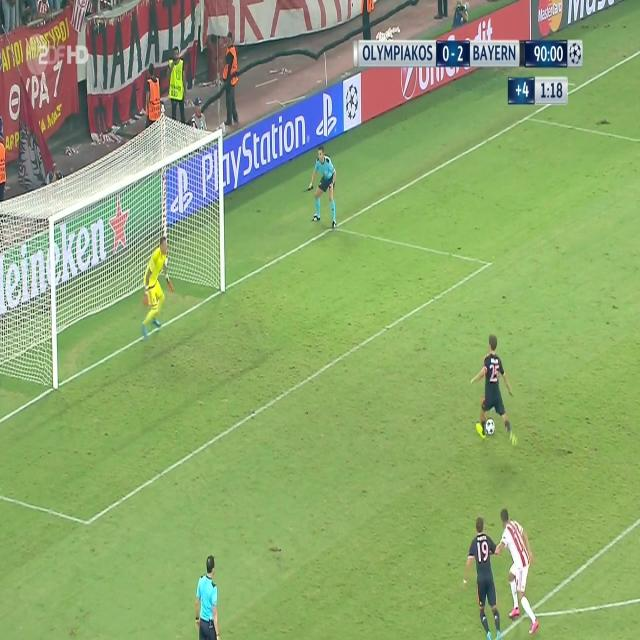Ball: (484, 414, 497, 438)
Goalkeeper: (139, 234, 176, 340)
Player: (498, 502, 542, 634), (469, 330, 516, 446), (463, 516, 502, 638)
Referee: (308, 144, 337, 231), (194, 551, 221, 640)
